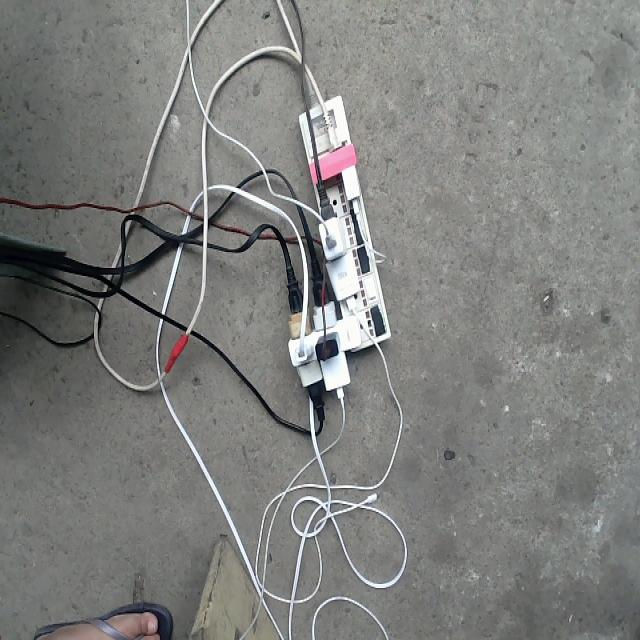-: (284, 93, 392, 424)
